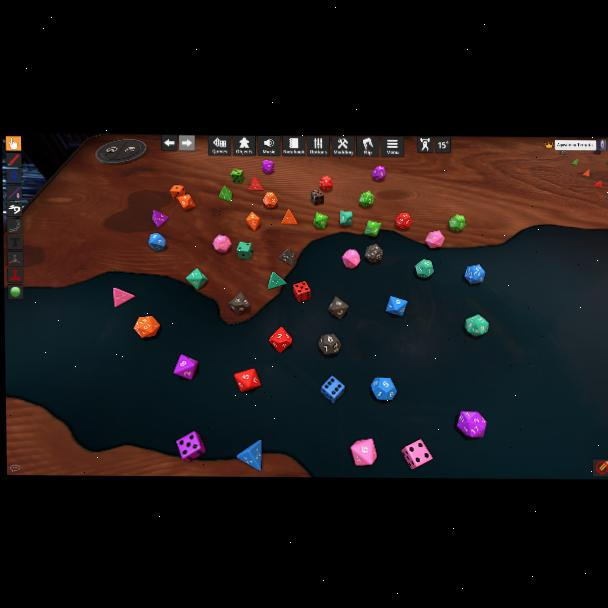d10: (269, 327, 293, 351), (228, 293, 249, 316), (343, 250, 361, 269), (149, 233, 166, 252), (177, 194, 195, 211), (364, 221, 381, 237), (262, 160, 275, 174), (339, 211, 351, 226)
d12: (372, 376, 398, 399), (318, 333, 342, 355), (415, 260, 435, 279), (213, 235, 232, 253), (394, 212, 412, 230), (449, 215, 466, 232), (263, 192, 277, 208), (372, 166, 385, 182)
d20: (458, 410, 487, 437), (464, 314, 489, 337), (134, 316, 160, 338), (464, 264, 486, 285), (425, 231, 446, 250), (364, 244, 383, 263), (358, 191, 374, 208), (319, 175, 334, 191)
d4: (236, 439, 263, 470), (267, 270, 287, 290), (113, 287, 134, 306), (278, 249, 297, 268), (152, 211, 169, 228), (282, 209, 297, 225), (248, 177, 263, 191), (218, 186, 231, 202), (570, 158, 579, 166), (582, 170, 591, 177), (594, 180, 602, 187)
d6: (176, 430, 207, 461), (401, 440, 432, 470), (321, 376, 345, 403), (292, 281, 310, 302), (237, 241, 253, 258), (170, 185, 186, 200), (311, 189, 323, 205), (231, 170, 244, 184)
d8: (350, 438, 377, 465), (174, 354, 199, 379), (234, 368, 261, 391), (186, 268, 208, 291), (327, 297, 348, 318), (386, 296, 407, 317), (246, 212, 261, 230), (314, 212, 327, 229)
